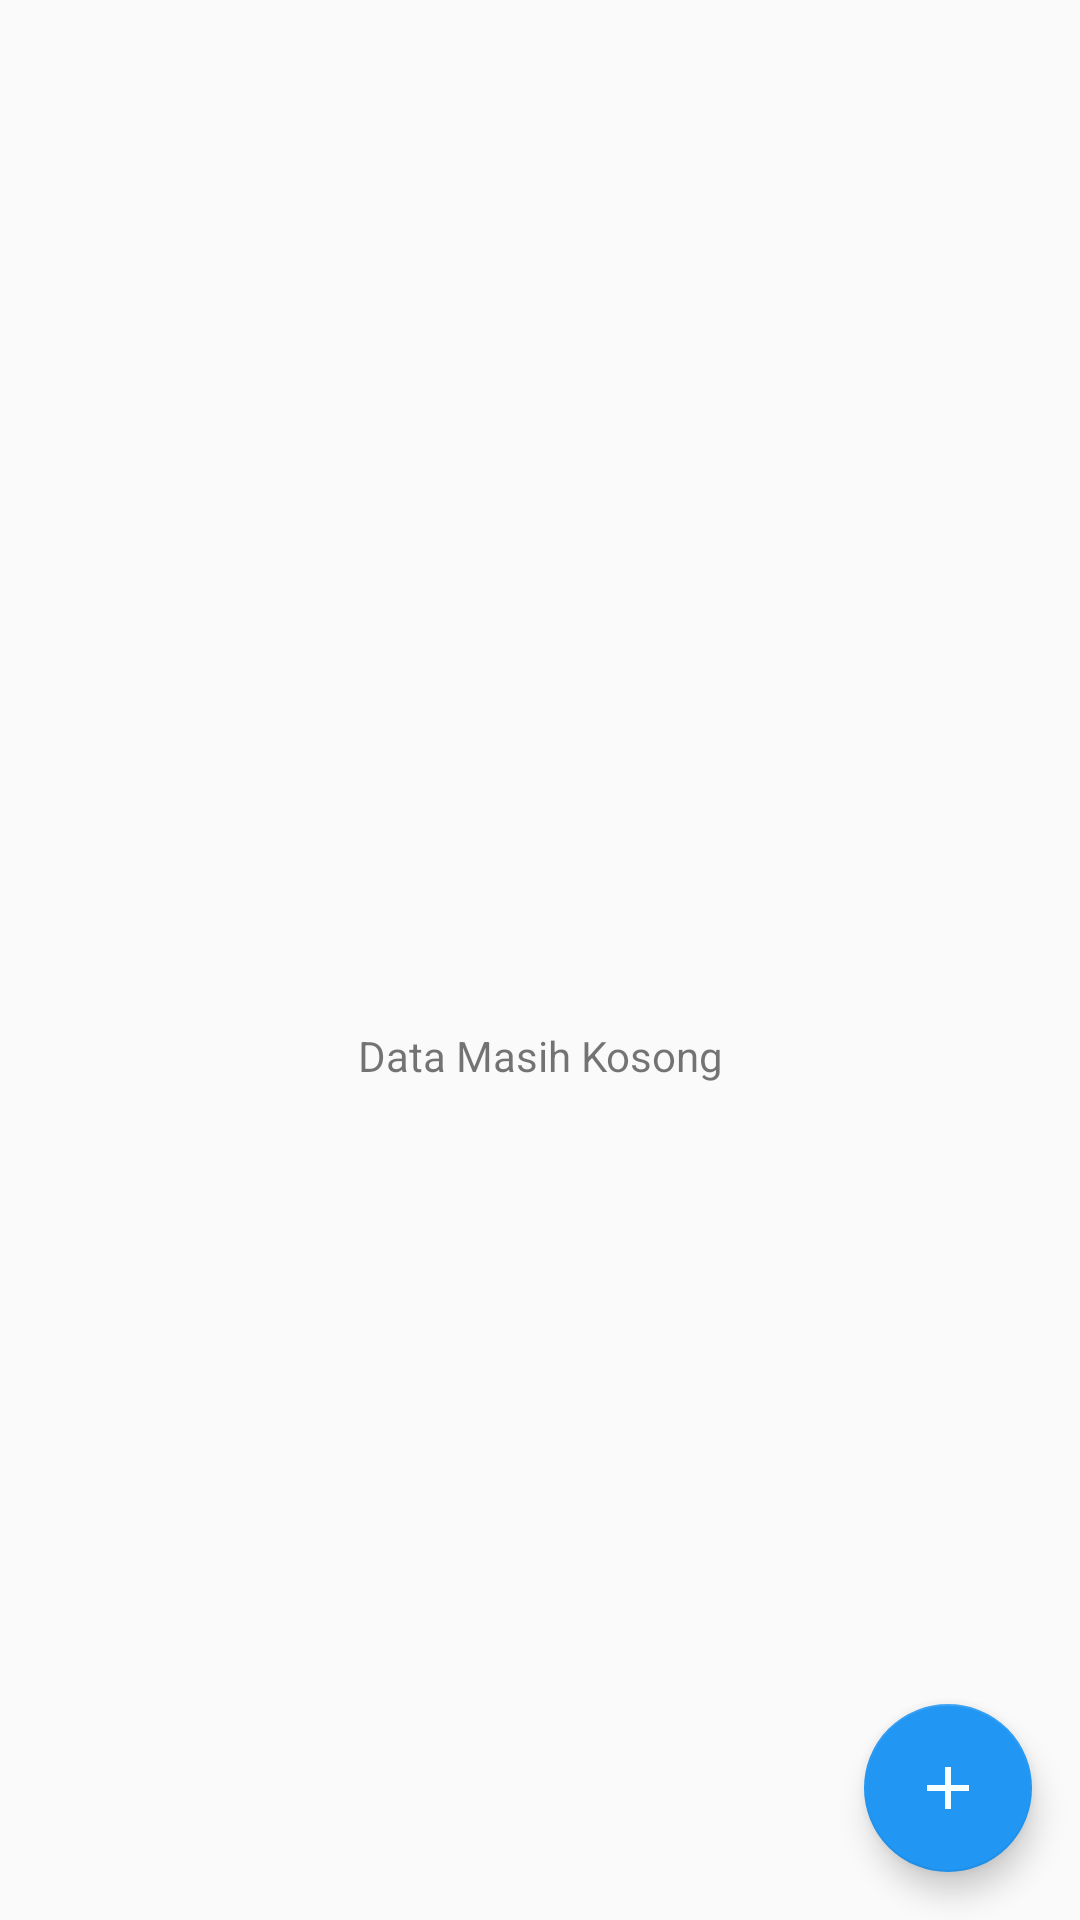

Screen size 1080x1920. Icon name, then its center in pixels as (x=x, y=y):
addpost: (x=948, y=1788)
